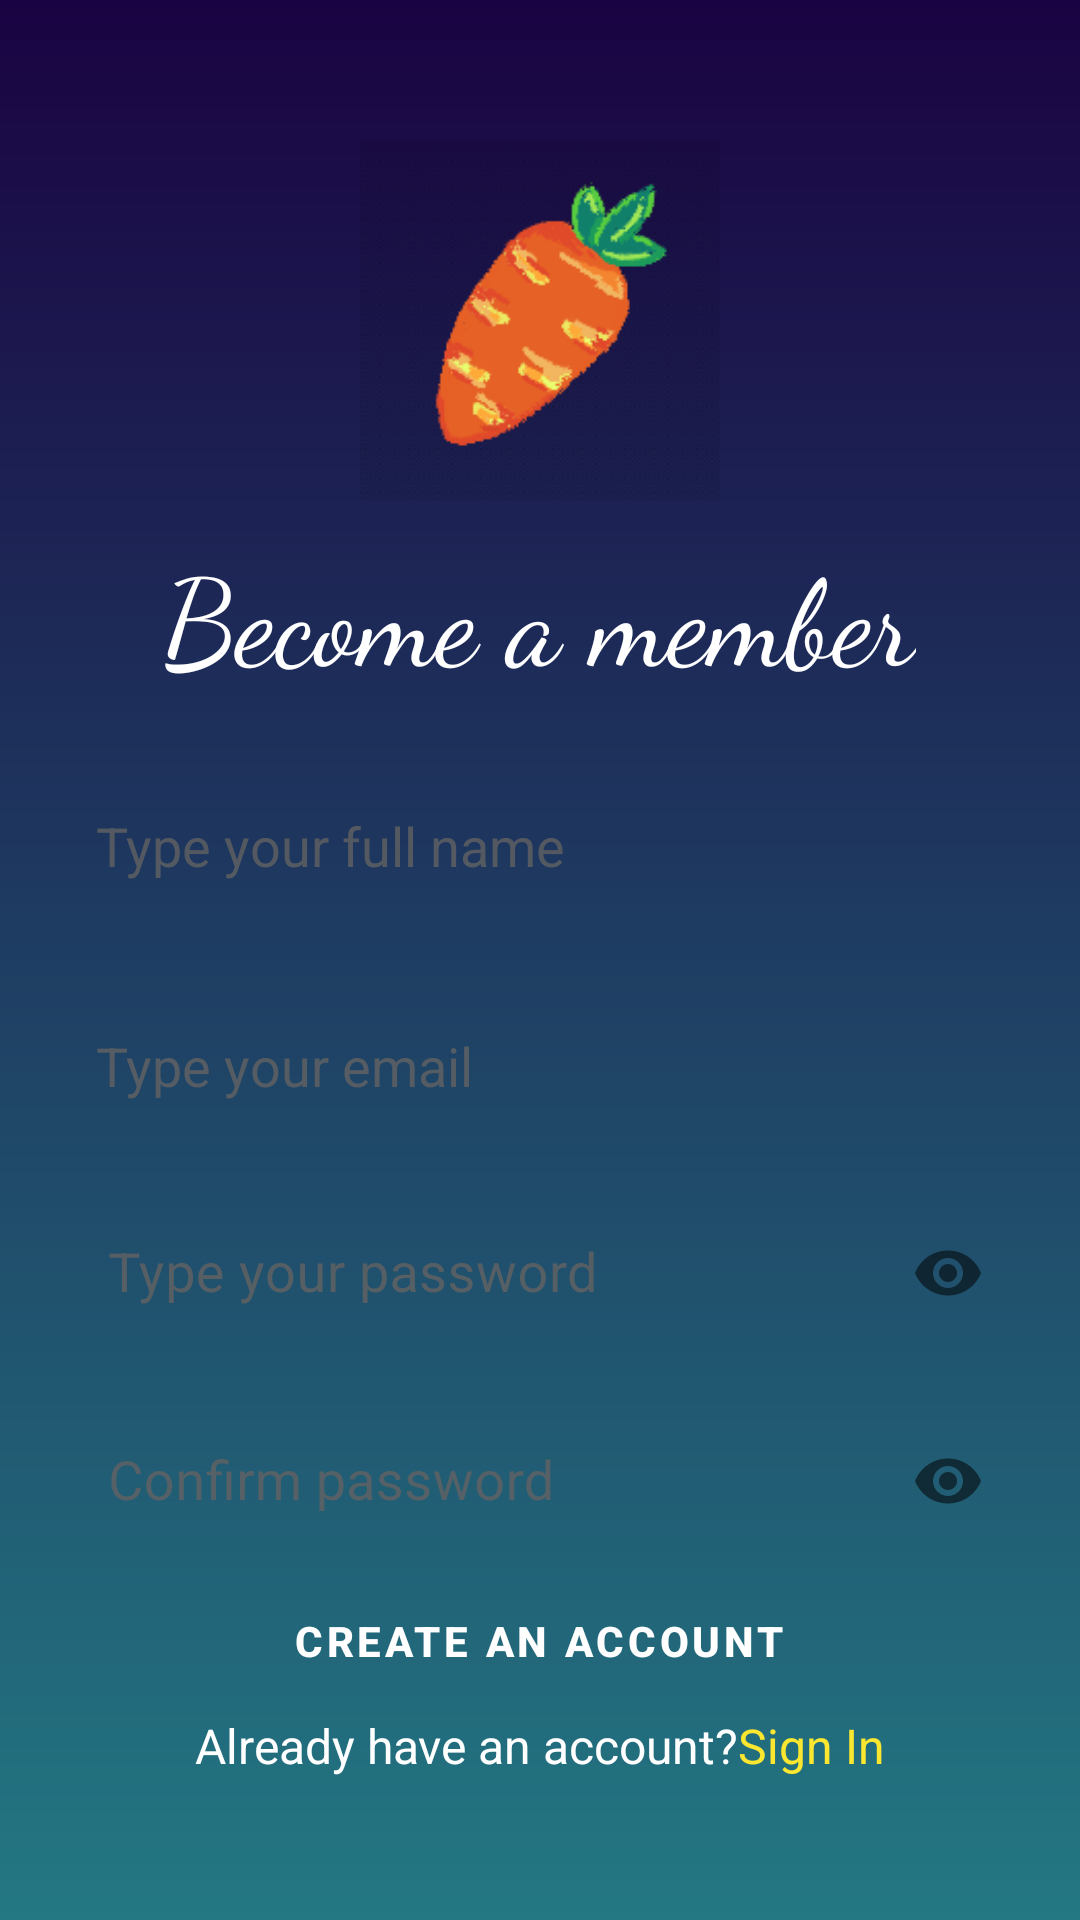

Locate icon controls on the screen. Image size 1080×1920, boxes as bbox=[x1, y1, x2, y2].
carrot: bbox=[435, 182, 667, 446]
